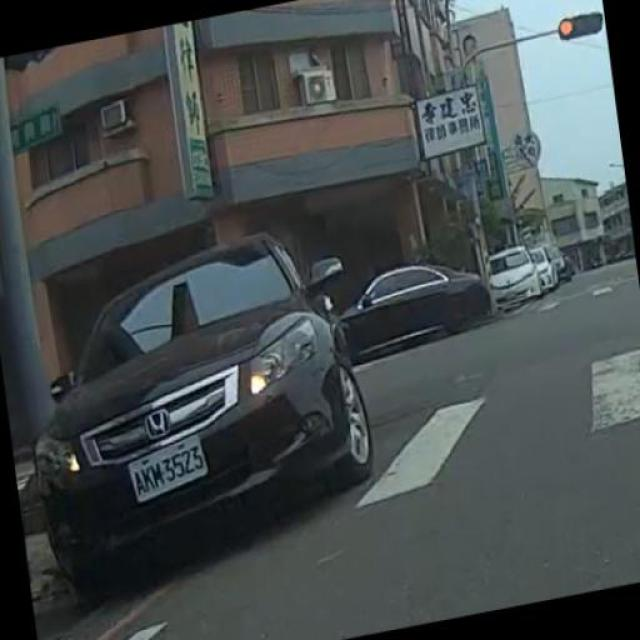illegalparking: (24, 207, 415, 608)
